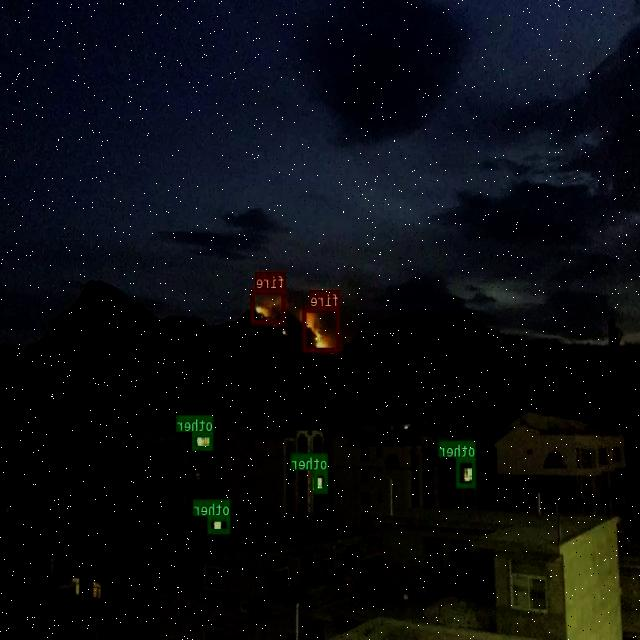fire: (304, 306, 341, 352), (252, 288, 286, 324)
